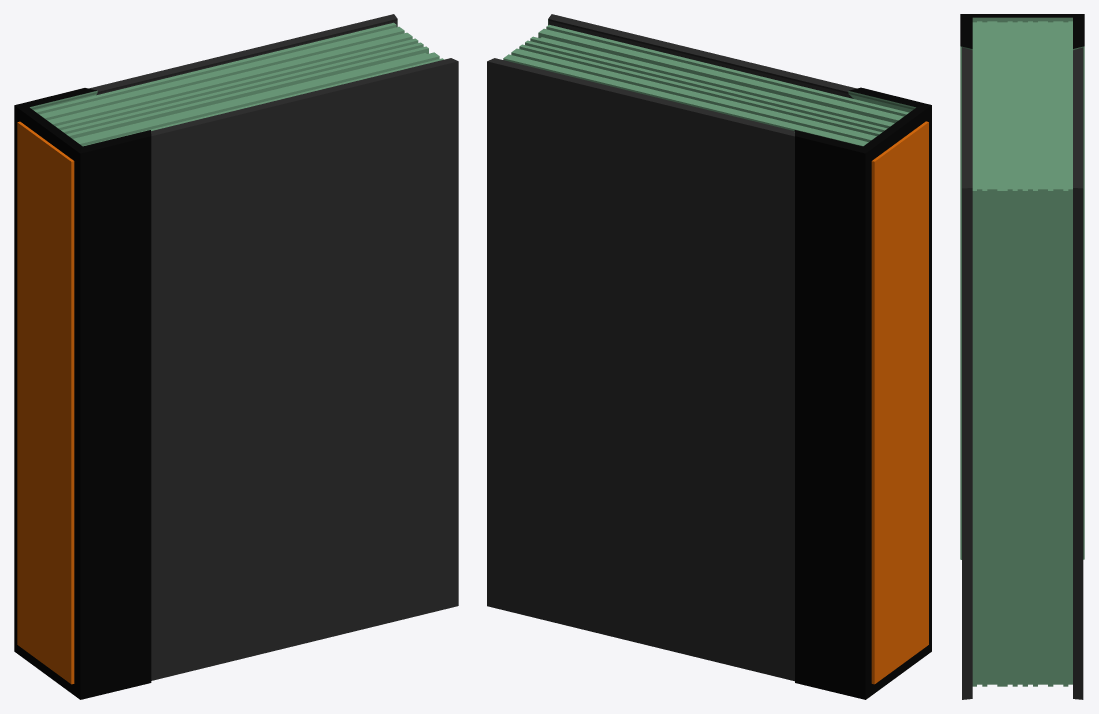
The model's file is DeskBook4.fbx.
3 renders of one model, left to right at view 1: azimuth 30°, elevation 25°; view 2: azimuth 150°, elevation 25°; view 3: azimuth 270°, elevation 25°, orthographic. The views are drawn at different scales.
Visible parts, largest first — view 1: Book.003; view 2: Book.003; view 3: Book.003.
Part boxes in pixels (x1,y1,x2,y2): Book.003: (14,14,458,699); Book.003: (487,14,931,699); Book.003: (960,14,1084,699).
Bounding box in the file's own units: 128 × 175 × 38.36.
